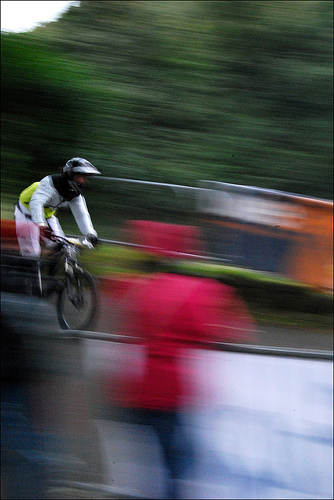helmet: (63, 156, 97, 190)
